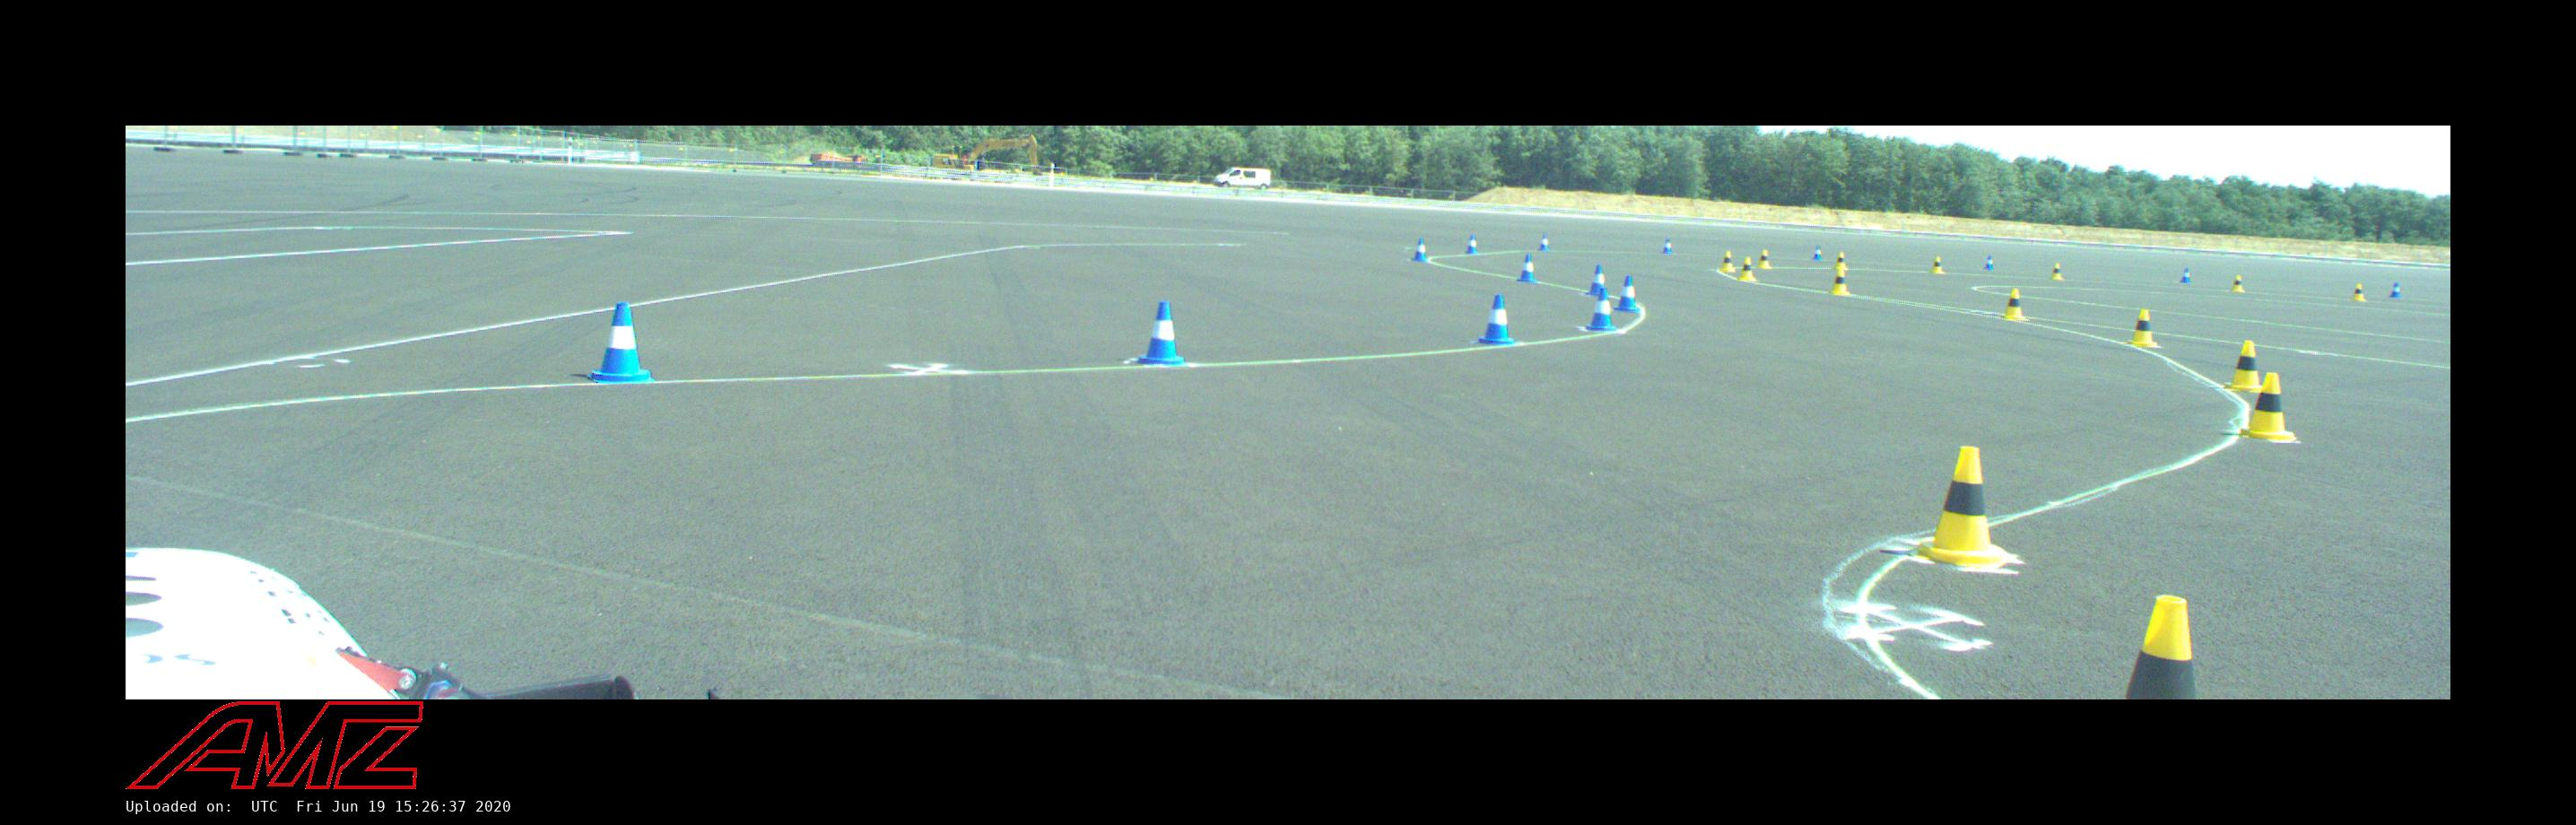blue_cone: (591, 302, 651, 381), (1140, 302, 1184, 365), (1475, 296, 1515, 345), (1582, 289, 1618, 330), (1612, 276, 1640, 311), (1585, 263, 1608, 297), (1516, 253, 1536, 283), (1411, 238, 1428, 261), (1465, 235, 1479, 253), (2389, 281, 2402, 297), (1538, 233, 1549, 251), (1663, 238, 1674, 253), (1985, 255, 1994, 271), (2180, 270, 2192, 283), (1812, 245, 1822, 260)
yellow_cone: (1917, 445, 2006, 569), (2124, 593, 2198, 698), (2241, 373, 2295, 442), (2226, 340, 2266, 391), (2123, 307, 2159, 347), (2003, 289, 2026, 320), (1832, 268, 1850, 294), (1738, 258, 1756, 281), (1720, 250, 1735, 271), (2351, 283, 2366, 301), (1758, 250, 1773, 268), (2229, 274, 2244, 293), (1930, 256, 1945, 273), (1833, 251, 1847, 268), (2050, 263, 2062, 279)
